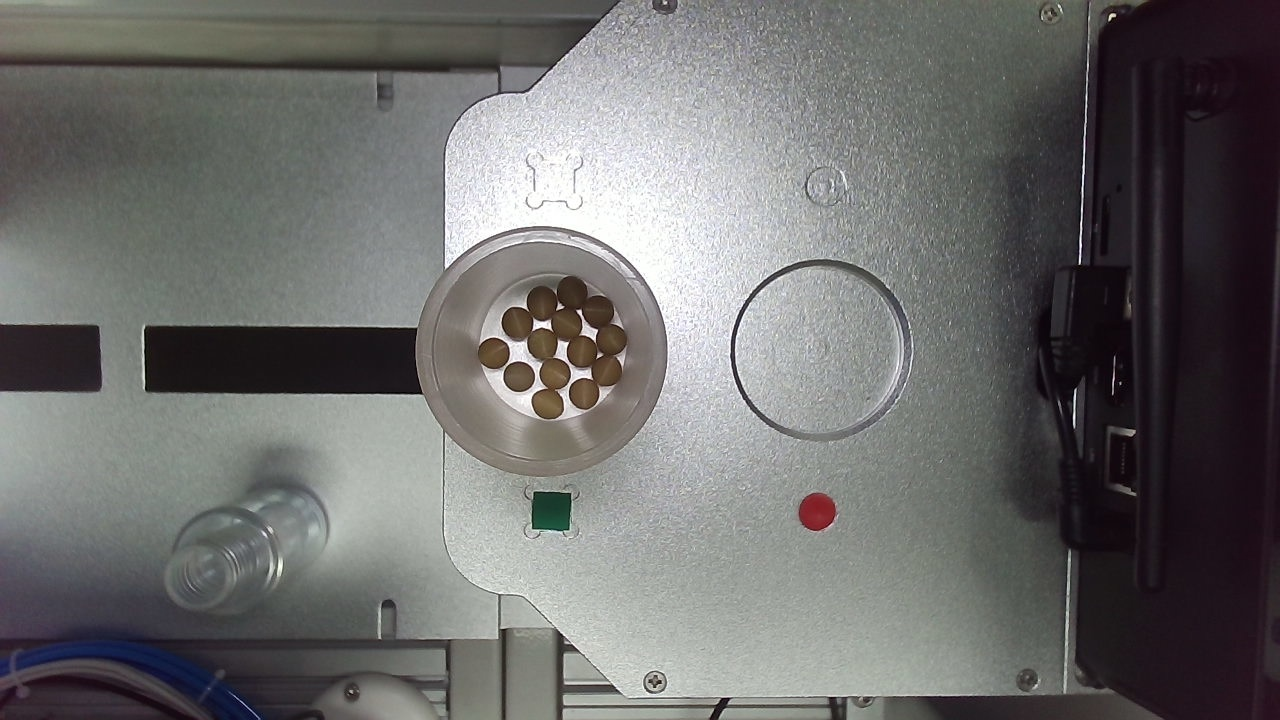XLabel: (659, 299, 693, 332)
YLabel: (440, 302, 475, 337)
none: (595, 366, 763, 529)
transparenexcept: (282, 372, 536, 589)
